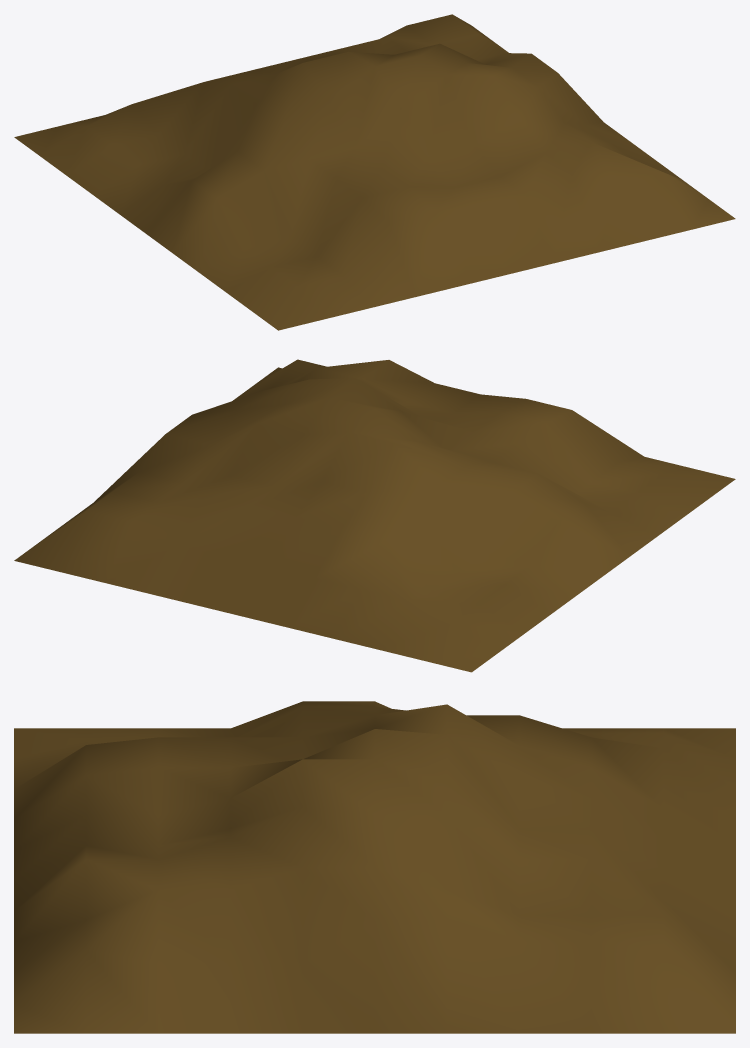
The model's file is Prop_DirtPile_Mod_01.fbx.
3 views of the same model, one above another, from view 1: azimuth 30°, elevation 25°; view 2: azimuth 150°, elevation 25°; view 3: azimuth 270°, elevation 25° (orthographic). The views are drawn at different scales.
Parts seen in each view (by area): view 1: DirtPile; view 2: DirtPile; view 3: DirtPile.
Part boxes in pixels (<box>): DirtPile: <box>14,14,735,330</box>; DirtPile: <box>14,359,735,672</box>; DirtPile: <box>14,701,735,1033</box>.
Bounding box in the file's own units: 17.23 × 4 × 17.23.
